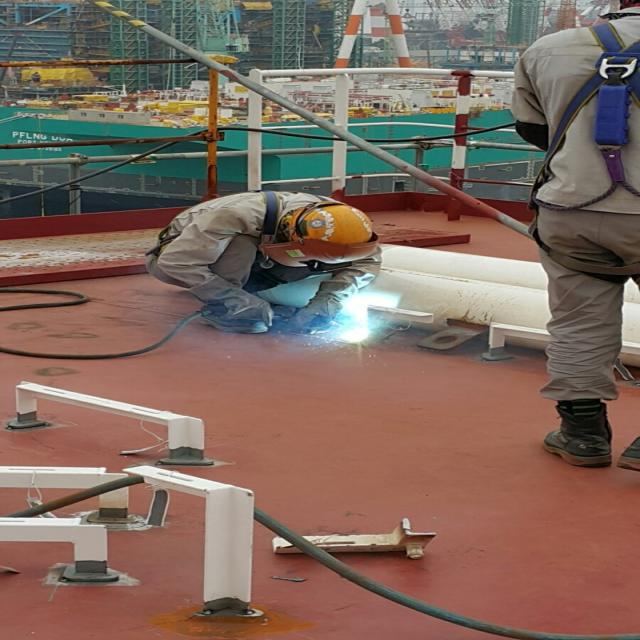welding: (342, 318, 373, 344)
